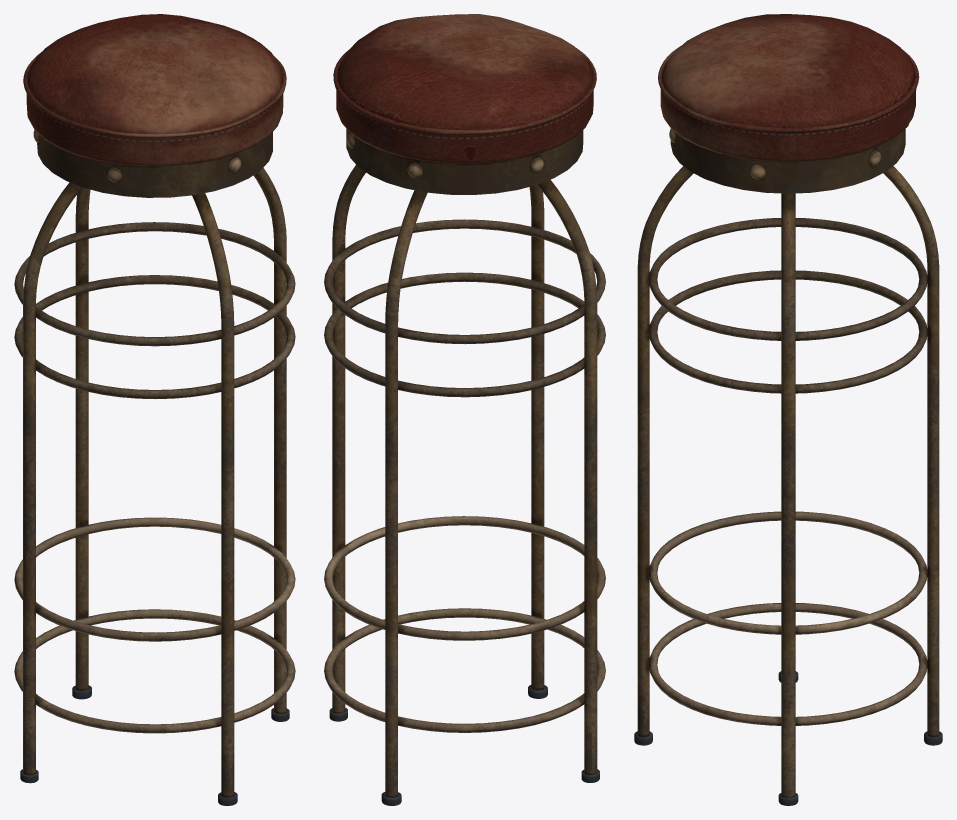
File: stool.glb
3 views of the same model, side by side, from view 1: azimuth 30°, elevation 25°; view 2: azimuth 150°, elevation 25°; view 3: azimuth 270°, elevation 25° (orthographic).
Visible parts, largest first — view 1: metal_stool_01; view 2: metal_stool_01; view 3: metal_stool_01.
Boxes of the visible parts, x1,y1,x2,y2 form: metal_stool_01: (14,14,295,805); metal_stool_01: (324,14,605,805); metal_stool_01: (634,14,942,805).
Size of the model in its own units: 0.352 by 0.8828 by 0.3546.
1 material, 1 textured.
